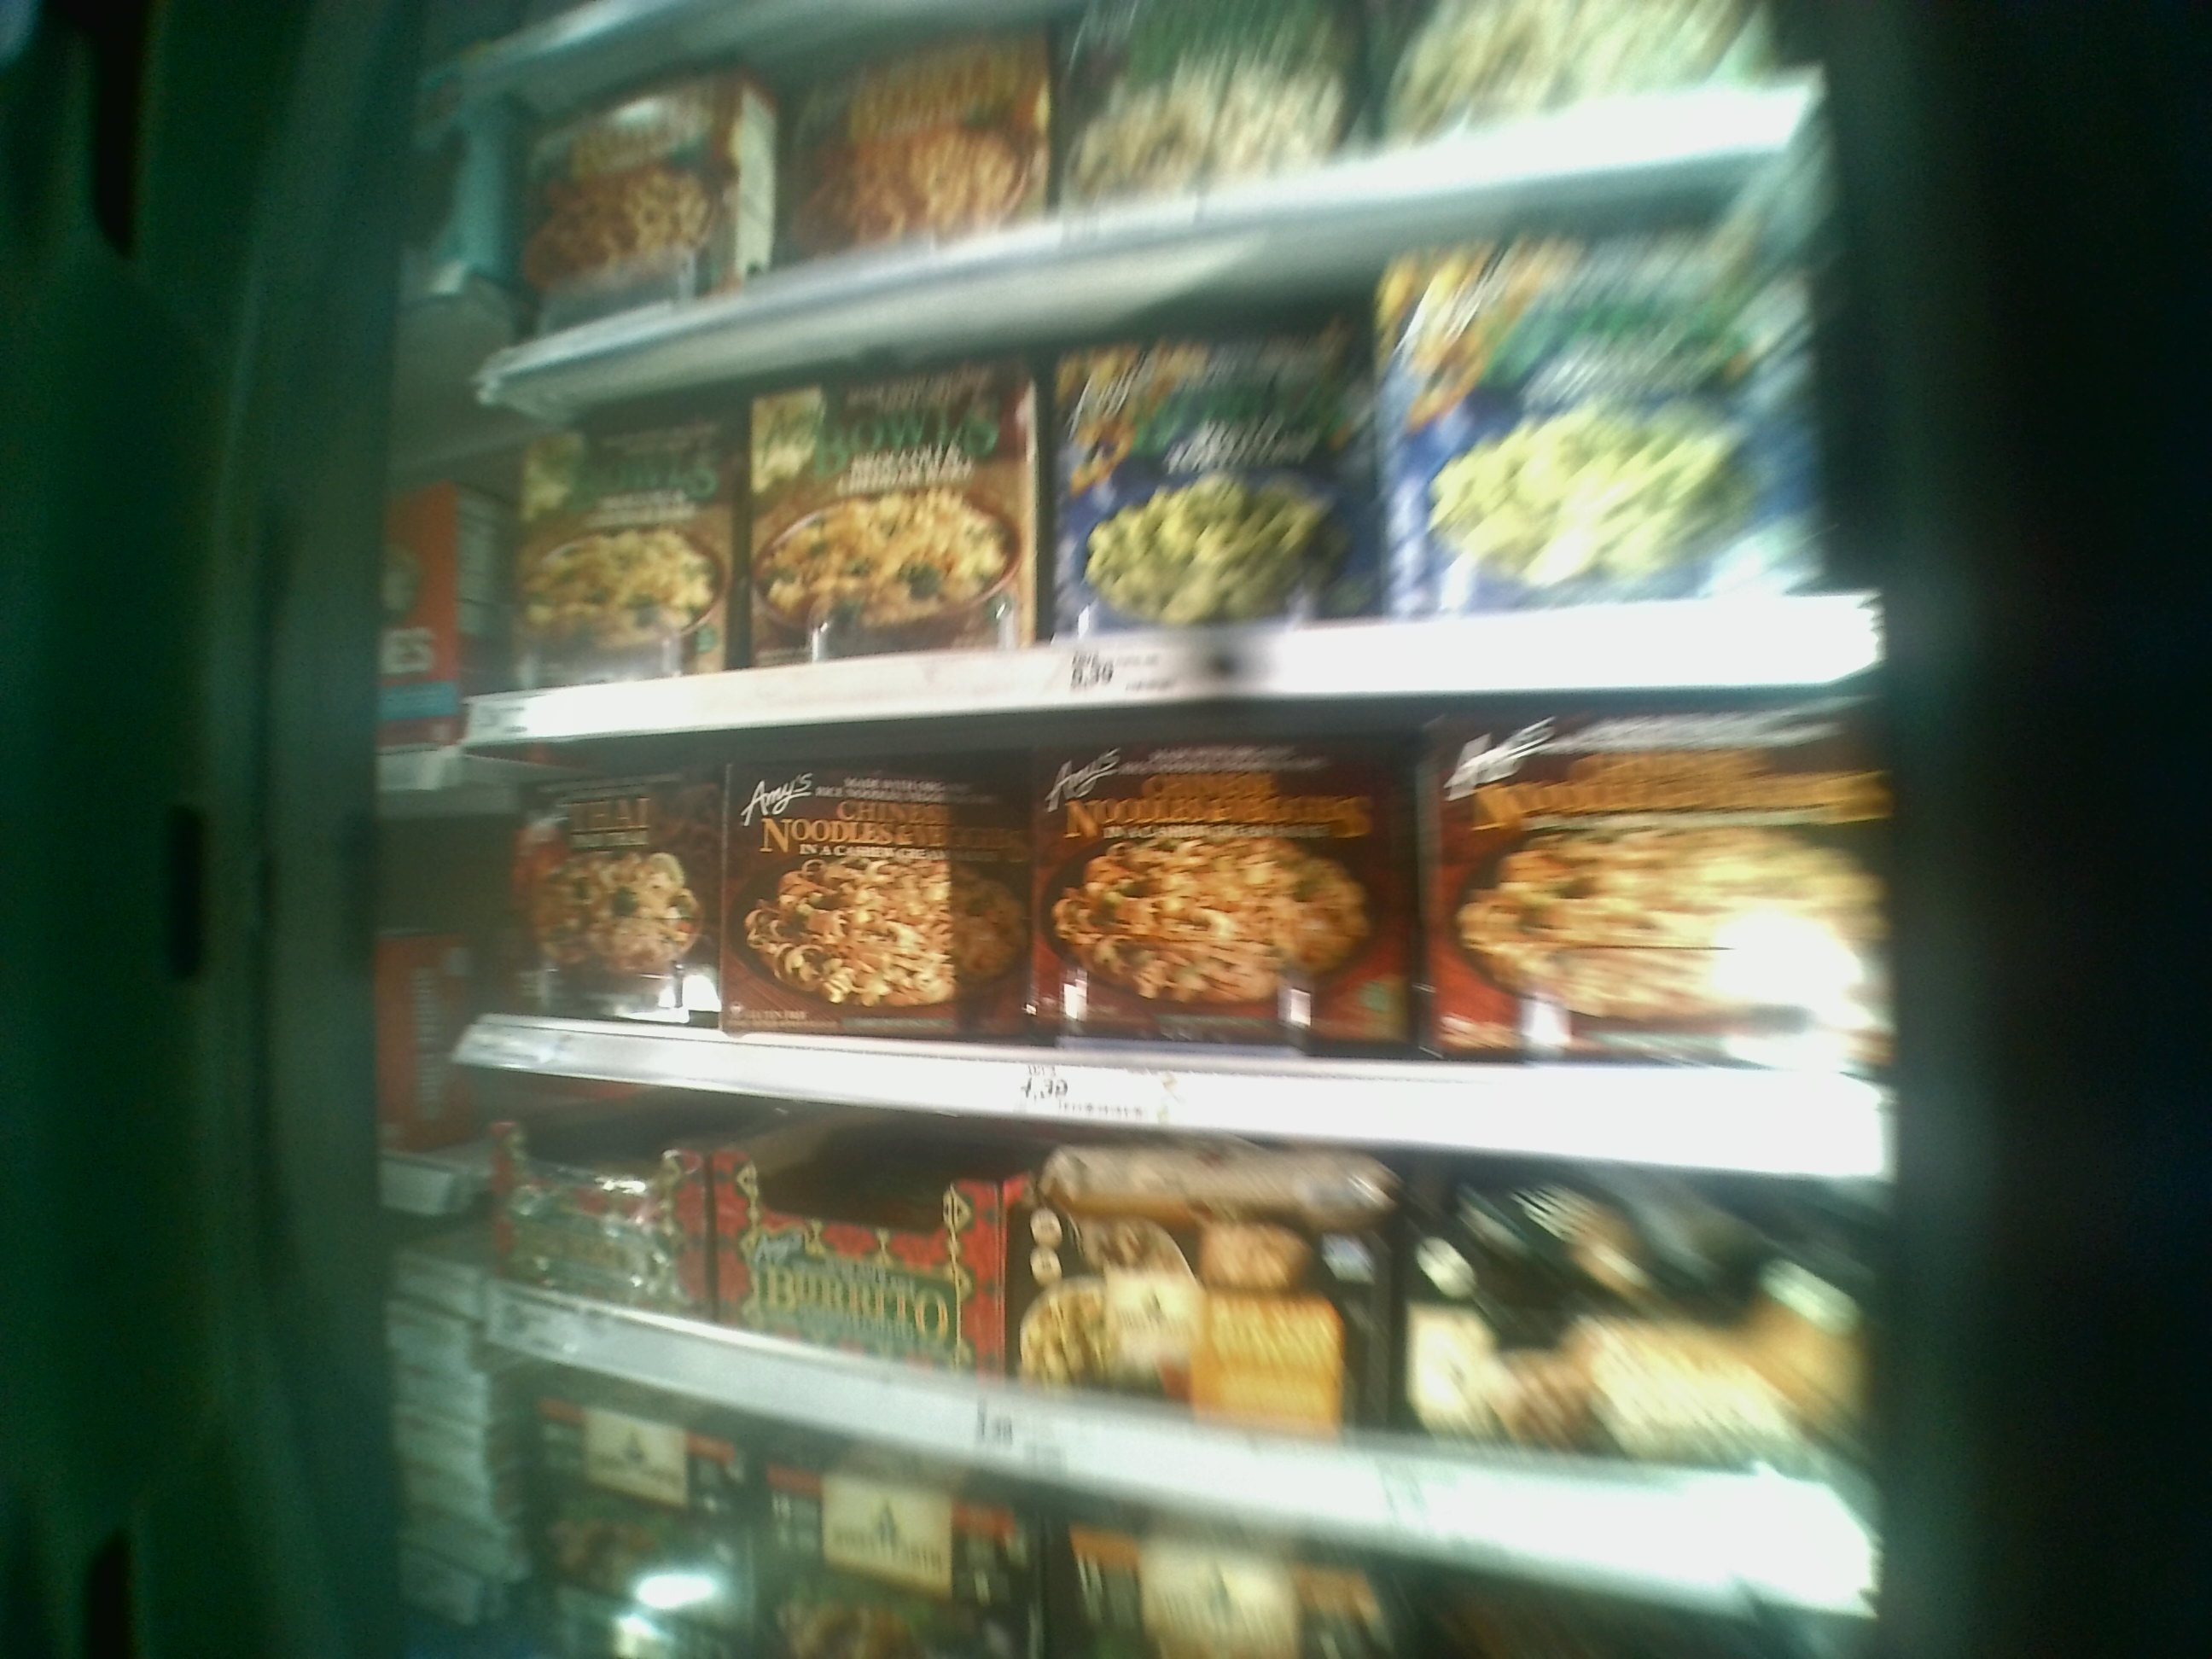frozen-food-shelf: (432, 748, 1890, 1180)
